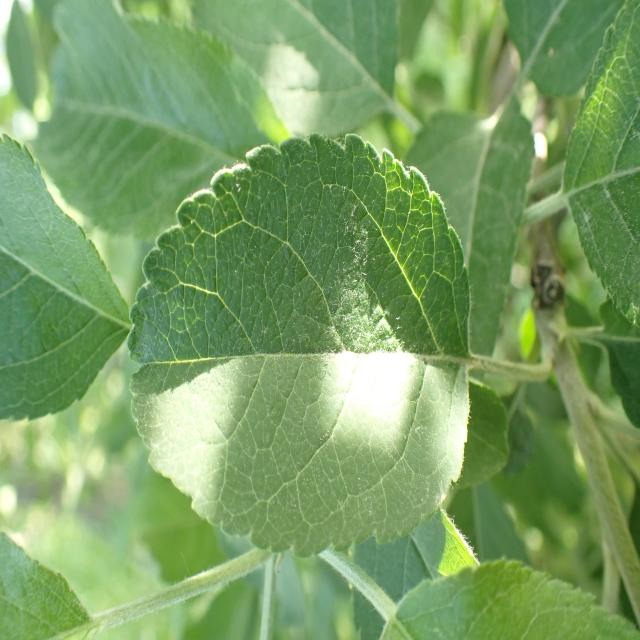healthy: (126, 131, 472, 559), (35, 0, 282, 239), (0, 134, 132, 422), (405, 97, 536, 361), (562, 0, 640, 329), (379, 558, 639, 640), (349, 507, 478, 640), (502, 0, 631, 98), (1, 531, 92, 639)
